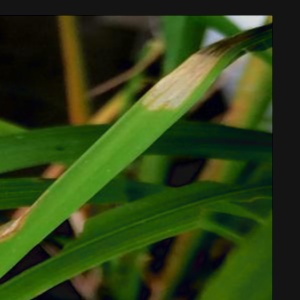Brown_Spot: (0, 203, 33, 258)
